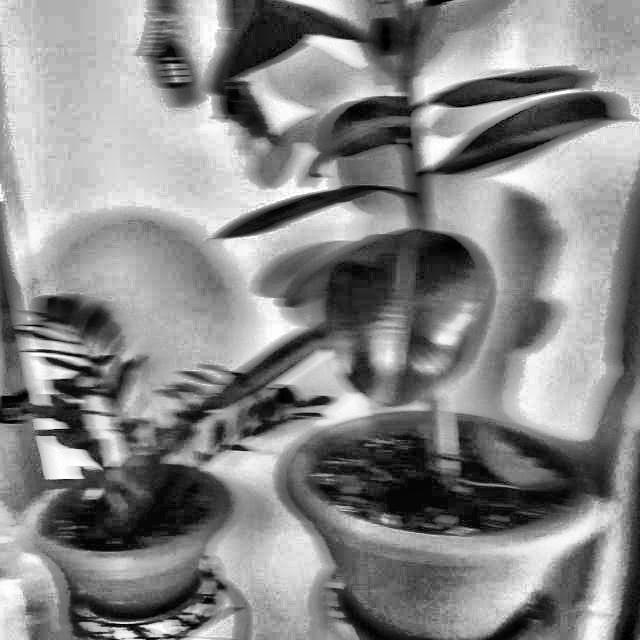plants: (353, 0, 575, 431), (8, 269, 274, 515)
